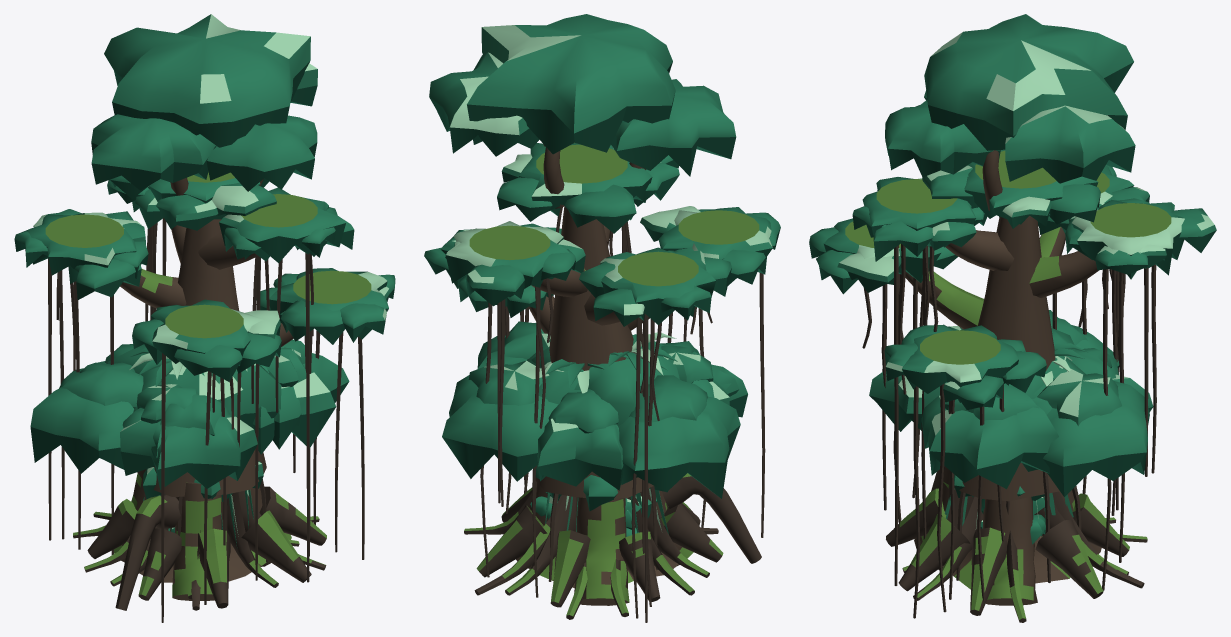
Rendered from JadeGrove_Trees.fbx.
3 views of the same model, side by side, from view 1: azimuth 30°, elevation 25°; view 2: azimuth 150°, elevation 25°; view 3: azimuth 270°, elevation 25° (orthographic). The views are drawn at different scales.
Visible parts, largest first — view 1: JG_Tree_GuardianCrown__LeafMid, JG_Tree_Buttress_B1__LeafMid, JG_Tree_GuardianCrown__LeafDeep, JG_Tree_GuardianCrown__Root, JG_Tree_Guardian__Trunk, JG_Tree_Guardian__Root, JG_Tree_GuardianCrown__Moss, JG_Tree_Guardian__Moss, JG_Tree_Buttress_B1__LeafDeep, JG_Tree_GuardianCrown__LeafPale, JG_Tree_Buttress_B2__LeafMid, JG_Tree_Buttress_B2__Root (+6 smaller); view 2: JG_Tree_GuardianCrown__LeafMid, JG_Tree_Buttress_B1__LeafMid, JG_Tree_GuardianCrown__LeafDeep, JG_Tree_Guardian__Trunk, JG_Tree_GuardianCrown__Root, JG_Tree_GuardianCrown__Moss, JG_Tree_Guardian__Root, JG_Tree_Buttress_B2__LeafMid, JG_Tree_GuardianCrown__LeafPale, JG_Tree_Guardian__Moss, JG_Tree_Buttress_B1__LeafDeep, JG_Tree_Buttress_B2__Root (+9 smaller); view 3: JG_Tree_GuardianCrown__LeafMid, JG_Tree_Buttress_B1__LeafMid, JG_Tree_Guardian__Trunk, JG_Tree_GuardianCrown__LeafDeep, JG_Tree_GuardianCrown__Root, JG_Tree_GuardianCrown__LeafPale, JG_Tree_GuardianCrown__Moss, JG_Tree_Guardian__Root, JG_Tree_Guardian__Moss, JG_Tree_Buttress_B1__LeafDeep, JG_Tree_Buttress_B1__Root, JG_Tree_Buttress_B2__LeafMid (+5 smaller).
Part boxes in pixels (box(x1,y1,x2,y2)): JG_Tree_GuardianCrown__LeafMid: box(14, 14, 395, 367); JG_Tree_Buttress_B1__LeafMid: box(30, 339, 349, 469); JG_Tree_GuardianCrown__LeafDeep: box(14, 57, 394, 381); JG_Tree_GuardianCrown__Root: box(48, 218, 364, 622); JG_Tree_Guardian__Trunk: box(120, 219, 293, 600); JG_Tree_Guardian__Root: box(87, 479, 326, 610); JG_Tree_GuardianCrown__Moss: box(45, 172, 371, 338); JG_Tree_Guardian__Moss: box(114, 269, 326, 597); JG_Tree_Buttress_B1__LeafDeep: box(30, 382, 348, 489); JG_Tree_GuardianCrown__LeafPale: box(33, 14, 388, 349); JG_Tree_Buttress_B2__LeafMid: box(96, 344, 301, 457); JG_Tree_Buttress_B2__Root: box(93, 492, 299, 599); JG_Tree_GuardianCrown__LeafMid: box(424, 14, 780, 315); JG_Tree_Buttress_B1__LeafMid: box(442, 321, 747, 470); JG_Tree_GuardianCrown__LeafDeep: box(424, 52, 780, 326); JG_Tree_Guardian__Trunk: box(516, 206, 681, 605); JG_Tree_GuardianCrown__Root: box(480, 207, 765, 622); JG_Tree_GuardianCrown__Moss: box(469, 142, 759, 286); JG_Tree_Guardian__Root: box(479, 465, 761, 607); JG_Tree_Buttress_B2__LeafMid: box(531, 335, 738, 469); JG_Tree_GuardianCrown__LeafPale: box(446, 25, 772, 315); JG_Tree_Guardian__Moss: box(476, 269, 723, 602); JG_Tree_Buttress_B1__LeafDeep: box(442, 394, 747, 498); JG_Tree_Buttress_B2__Root: box(505, 488, 709, 619); JG_Tree_GuardianCrown__LeafMid: box(809, 14, 1216, 403); JG_Tree_Buttress_B1__LeafMid: box(869, 310, 1149, 469); JG_Tree_Guardian__Trunk: box(905, 216, 1101, 605); JG_Tree_GuardianCrown__LeafDeep: box(809, 62, 1216, 409); JG_Tree_GuardianCrown__Root: box(862, 244, 1156, 618); JG_Tree_GuardianCrown__LeafPale: box(839, 32, 1214, 389); JG_Tree_GuardianCrown__Moss: box(845, 150, 1171, 364); JG_Tree_Guardian__Root: box(886, 466, 1128, 615); JG_Tree_Guardian__Moss: box(899, 227, 1129, 610); JG_Tree_Buttress_B1__LeafDeep: box(869, 365, 1149, 496); JG_Tree_Buttress_B1__Root: box(913, 496, 1144, 622); JG_Tree_Buttress_B2__LeafMid: box(921, 326, 1153, 431).
Bounding box in the file's own units: 53.01 × 81.88 × 55.27.
